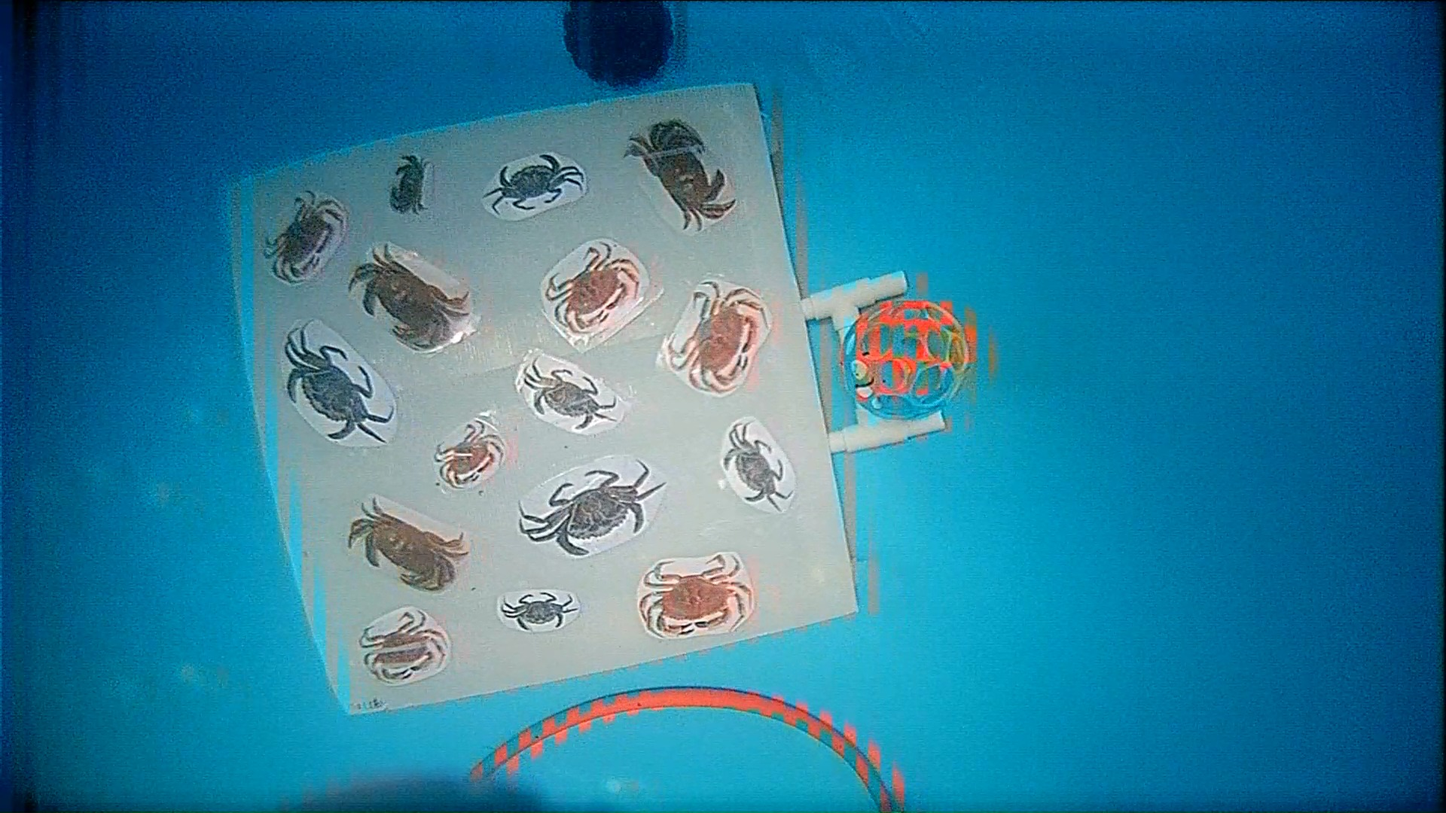GreenCrab: (520, 465, 662, 556), (285, 328, 394, 442), (524, 363, 616, 430), (484, 154, 583, 213), (725, 426, 791, 510), (502, 592, 578, 630)
